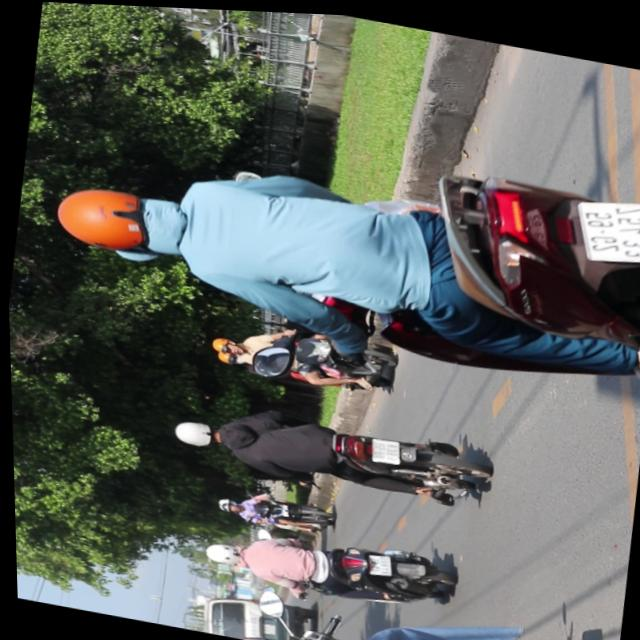helmet: (50, 176, 184, 266), (168, 414, 219, 448), (198, 537, 241, 565), (206, 333, 242, 355), (209, 347, 243, 364)
licenseplate: (40, 79, 640, 401), (164, 386, 492, 514), (196, 509, 456, 616), (202, 313, 395, 396)
nohelmet: (569, 186, 640, 262), (366, 433, 398, 463), (362, 550, 390, 574)
